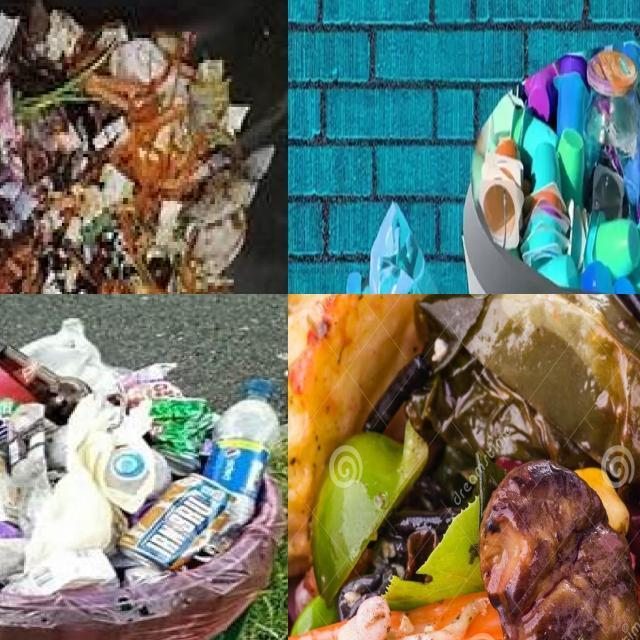Garbage: (288, 294, 640, 640), (0, 318, 279, 595), (473, 42, 640, 294)
Glass_bottle: (0, 340, 91, 424)
Plastic: (473, 39, 640, 294), (19, 318, 104, 384)
Plastic_bottle: (203, 377, 281, 500), (104, 439, 171, 513)
Plastic_wraper: (148, 398, 218, 474)
can: (120, 475, 232, 568)
